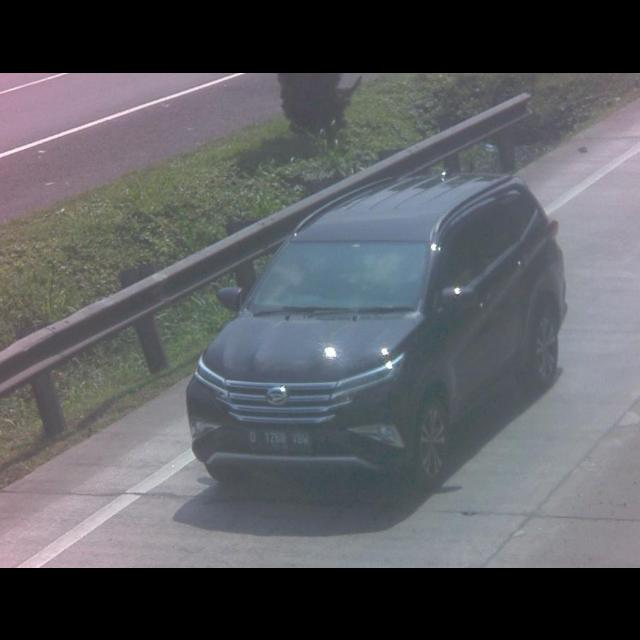plate: (244, 426, 312, 456)
